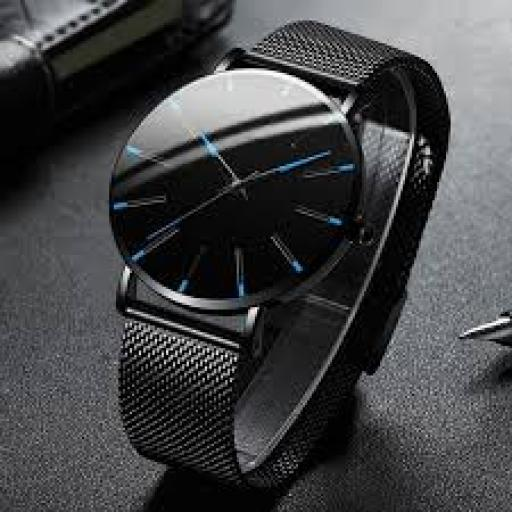KolSaati: (70, 12, 467, 498)
